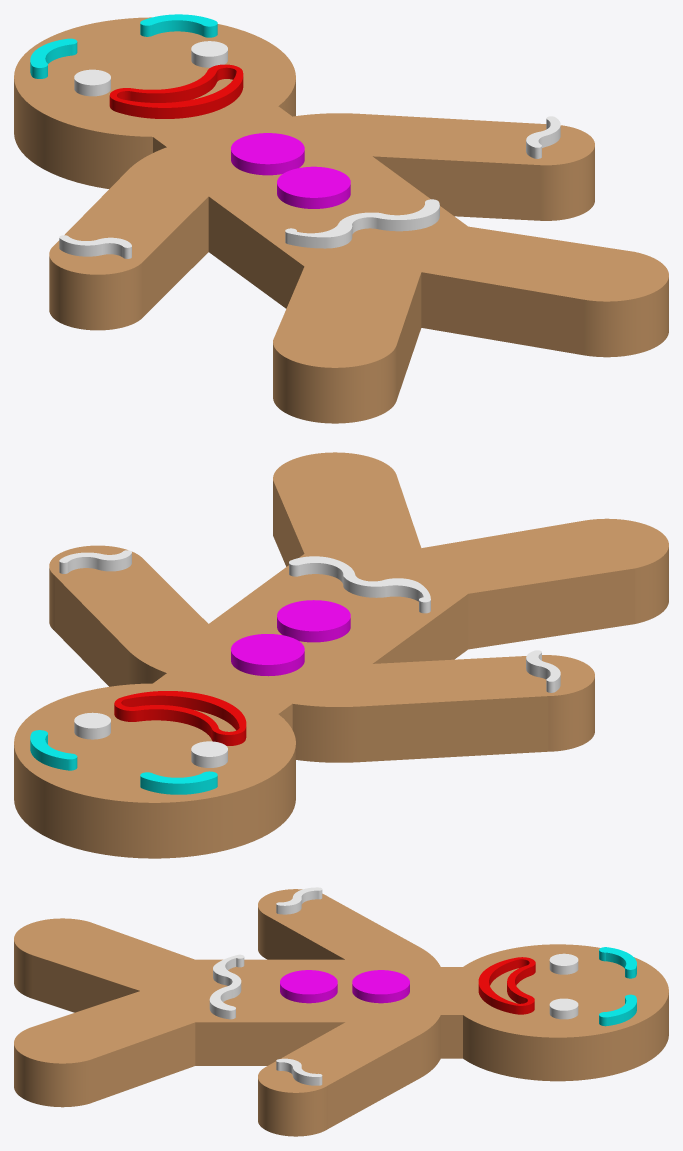
Rendered from gingerbread-man.glb.
3 renders of one model, top to bottom at view 1: azimuth 30°, elevation 25°; view 2: azimuth 150°, elevation 25°; view 3: azimuth 270°, elevation 25°, orthographic. The views are drawn at different scales.
Size of the model in its own units: 0.5007 by 0.06 by 0.6803.
